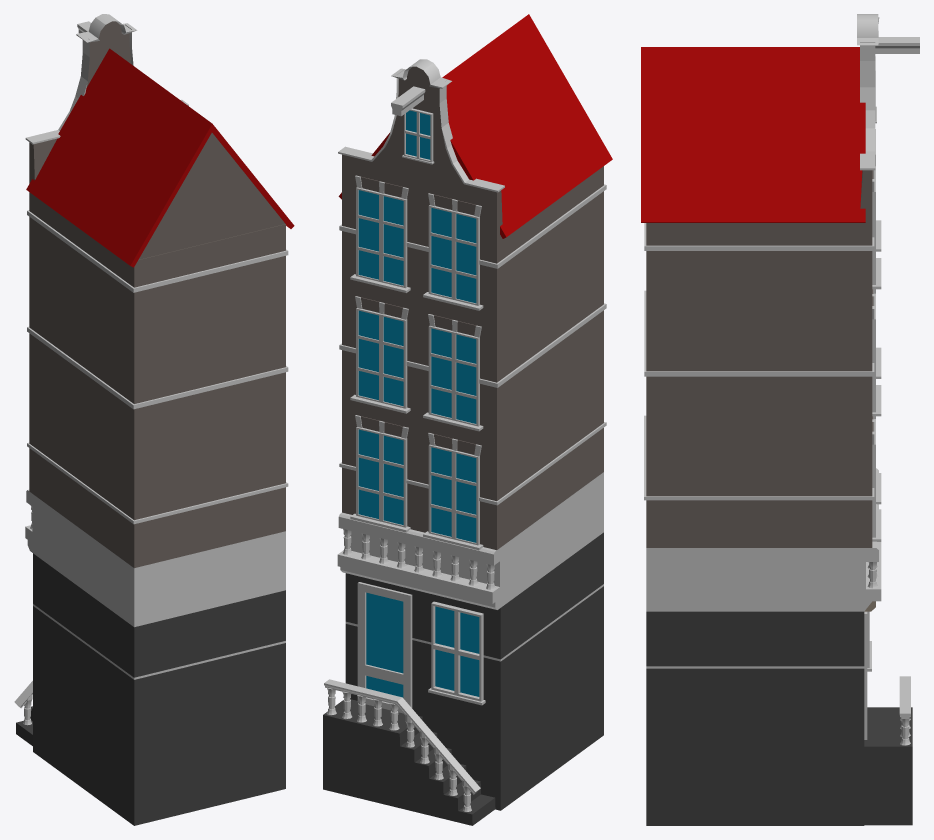
The model's file is House2.fbx.
3 renders of one model, left to right at view 1: azimuth 30°, elevation 25°; view 2: azimuth 150°, elevation 25°; view 3: azimuth 270°, elevation 25°, orthographic. The views are drawn at different scales.
Visible parts, largest first — view 1: House6; view 2: House6; view 3: House6.
Part boxes in pixels (bbox=[...]): House6: bbox=[14, 14, 294, 825]; House6: bbox=[323, 14, 612, 825]; House6: bbox=[641, 14, 919, 825].
Bounding box in the file's own units: 4.16 × 17.27 × 5.67.
